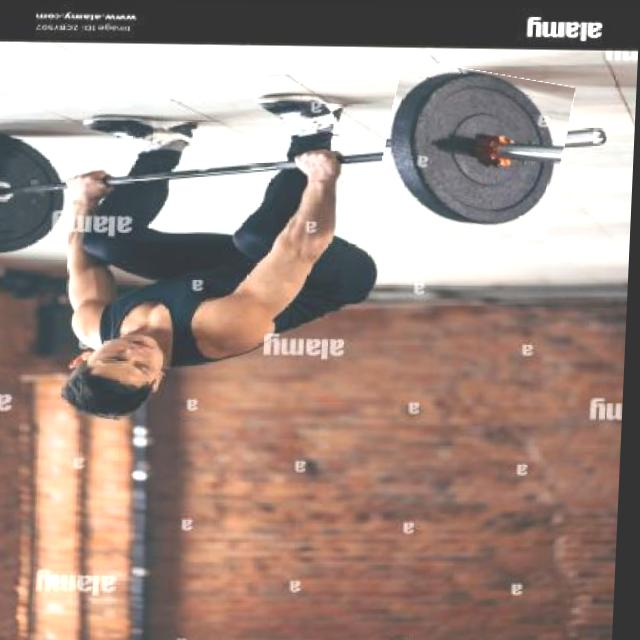barbell: (380, 63, 572, 238)
